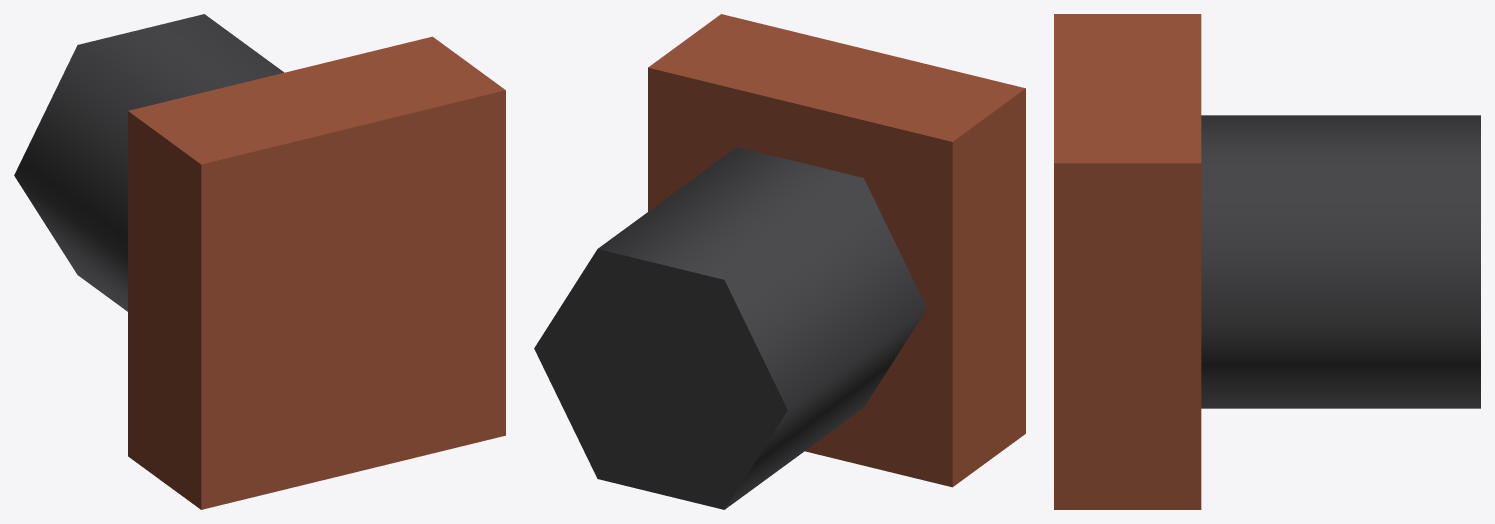
Rendered from pellet_auger.obj.
The picture shows the model from 3 angles, left to right: view 1: azimuth 30°, elevation 25°; view 2: azimuth 150°, elevation 25°; view 3: azimuth 270°, elevation 25°; orthographic projection.
Parts seen in each view (by area): view 1: pellet_auger; view 2: pellet_auger; view 3: pellet_auger.
Boxes of the visible parts, bbox=[...] form: pellet_auger: bbox=[14, 14, 505, 509]; pellet_auger: bbox=[534, 14, 1025, 509]; pellet_auger: bbox=[1054, 14, 1480, 509].
Size of the model in its own units: 0.24 by 0.26 by 0.29.
